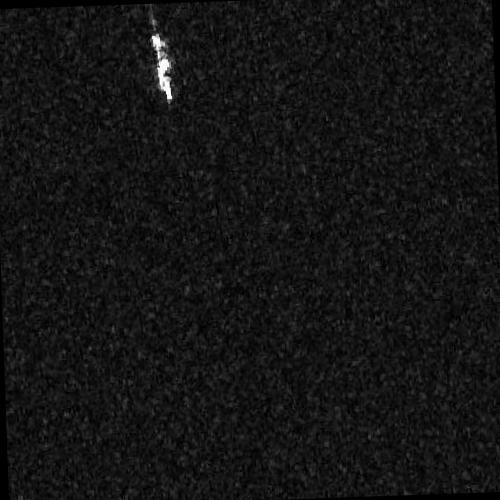ship: (149, 30, 175, 105)
